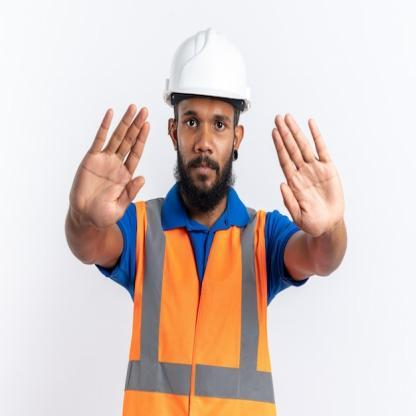stop: (66, 96, 154, 230), (269, 107, 348, 234)
